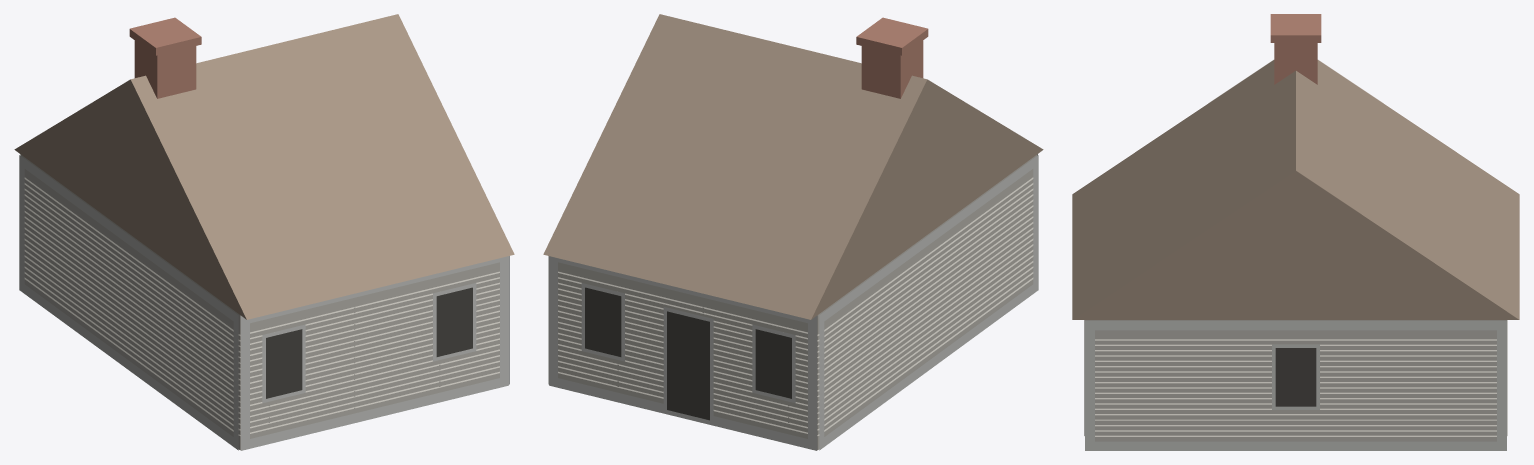
File: recon_1835_north_d4_012__inferred_1835.glb
3 views of the same model, side by side, from view 1: azimuth 30°, elevation 25°; view 2: azimuth 150°, elevation 25°; view 3: azimuth 270°, elevation 25° (orthographic). The views are drawn at different scales.
Parts seen in each view (by area): view 1: recon_1835_north_d4_012__inferred_1835; view 2: recon_1835_north_d4_012__inferred_1835; view 3: recon_1835_north_d4_012__inferred_1835.
Boxes of the visible parts, x1,y1,x2,y2 form: recon_1835_north_d4_012__inferred_1835: (14,14,514,450); recon_1835_north_d4_012__inferred_1835: (543,14,1043,450); recon_1835_north_d4_012__inferred_1835: (1072,14,1519,450).
Size of the model in its own units: 5.82 by 6.74 by 8.64.
